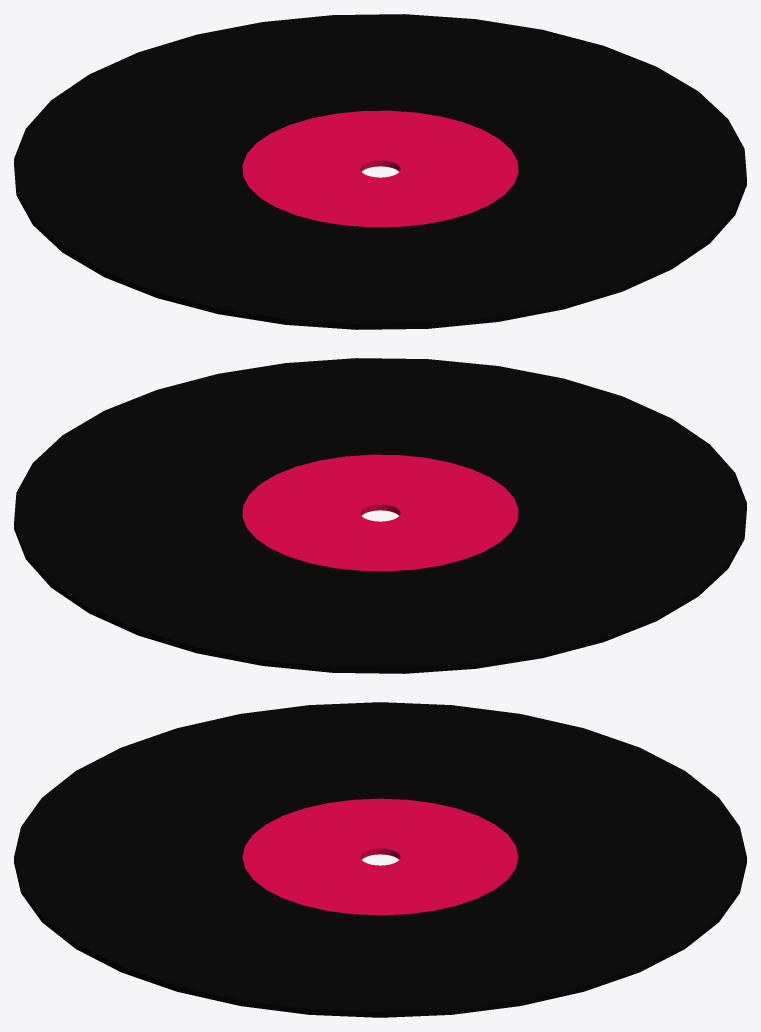
File: Vinyl Record.fbx
The picture shows the model from 3 angles, top to bottom: view 1: azimuth 30°, elevation 25°; view 2: azimuth 150°, elevation 25°; view 3: azimuth 270°, elevation 25°; orthographic projection.
Parts seen in each view (by area): view 1: Circle; view 2: Circle; view 3: Circle.
Part boxes in pixels (x1,y1,x2,y2): Circle: (14, 14, 746, 329); Circle: (14, 358, 746, 673); Circle: (14, 702, 746, 1017).
Bounding box in the file's own units: 200 × 1.78 × 200.
